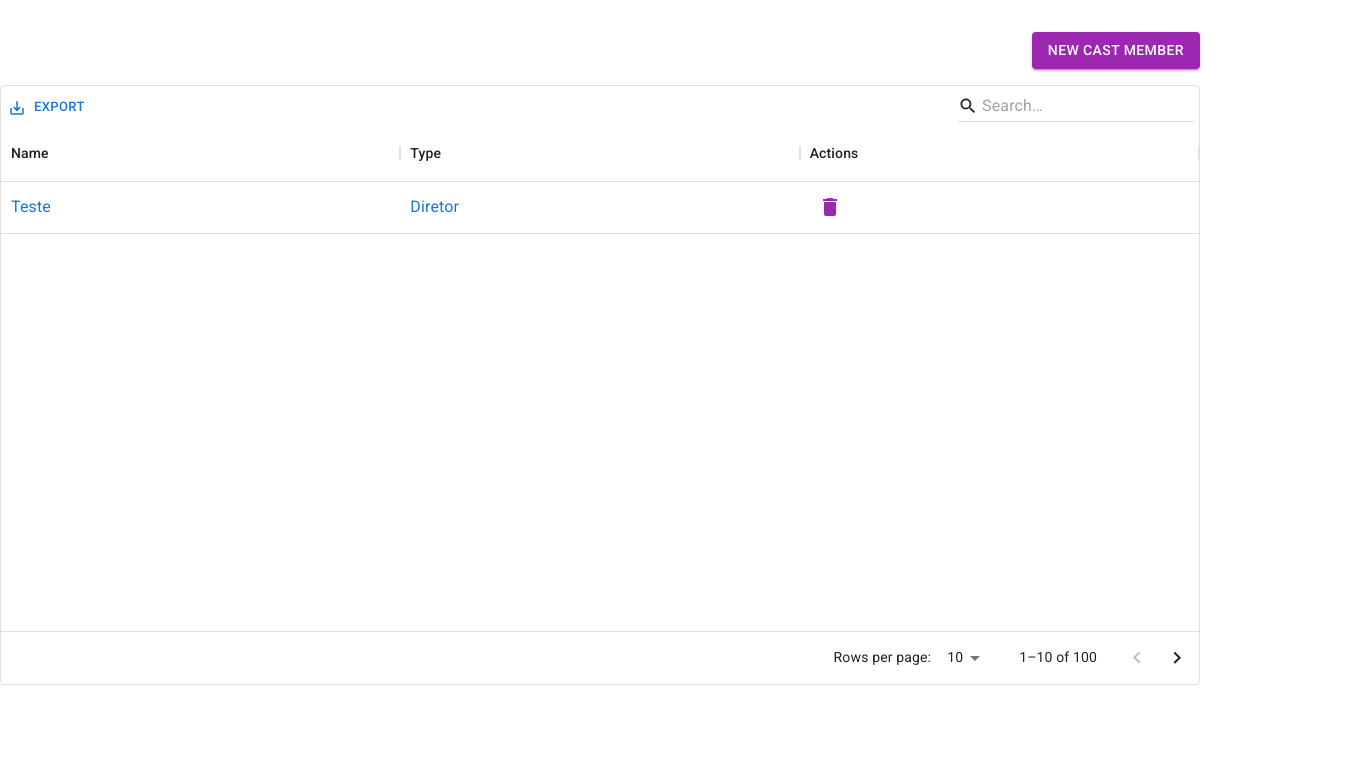
Scenario: ListCastmembers › should handle Delete Category error
The width and height of the screenshot is (1366, 768).
Check: the text "Teste" is shown, box [11,195,51,219]
Click the button with test id "delete-button" at x=830, y=207, box [810,187,850,227]
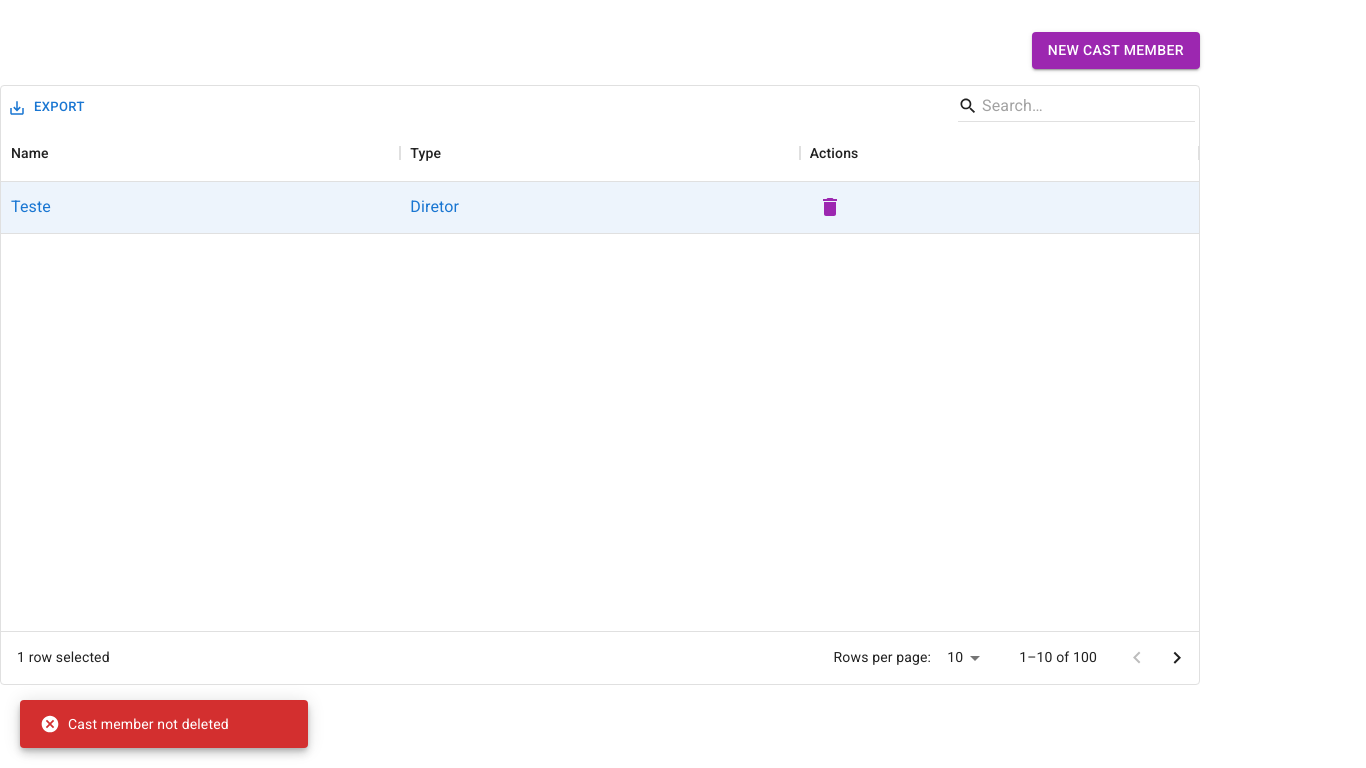
Check: the text "Cast member not deleted" is shown, box [40,714,229,734]
